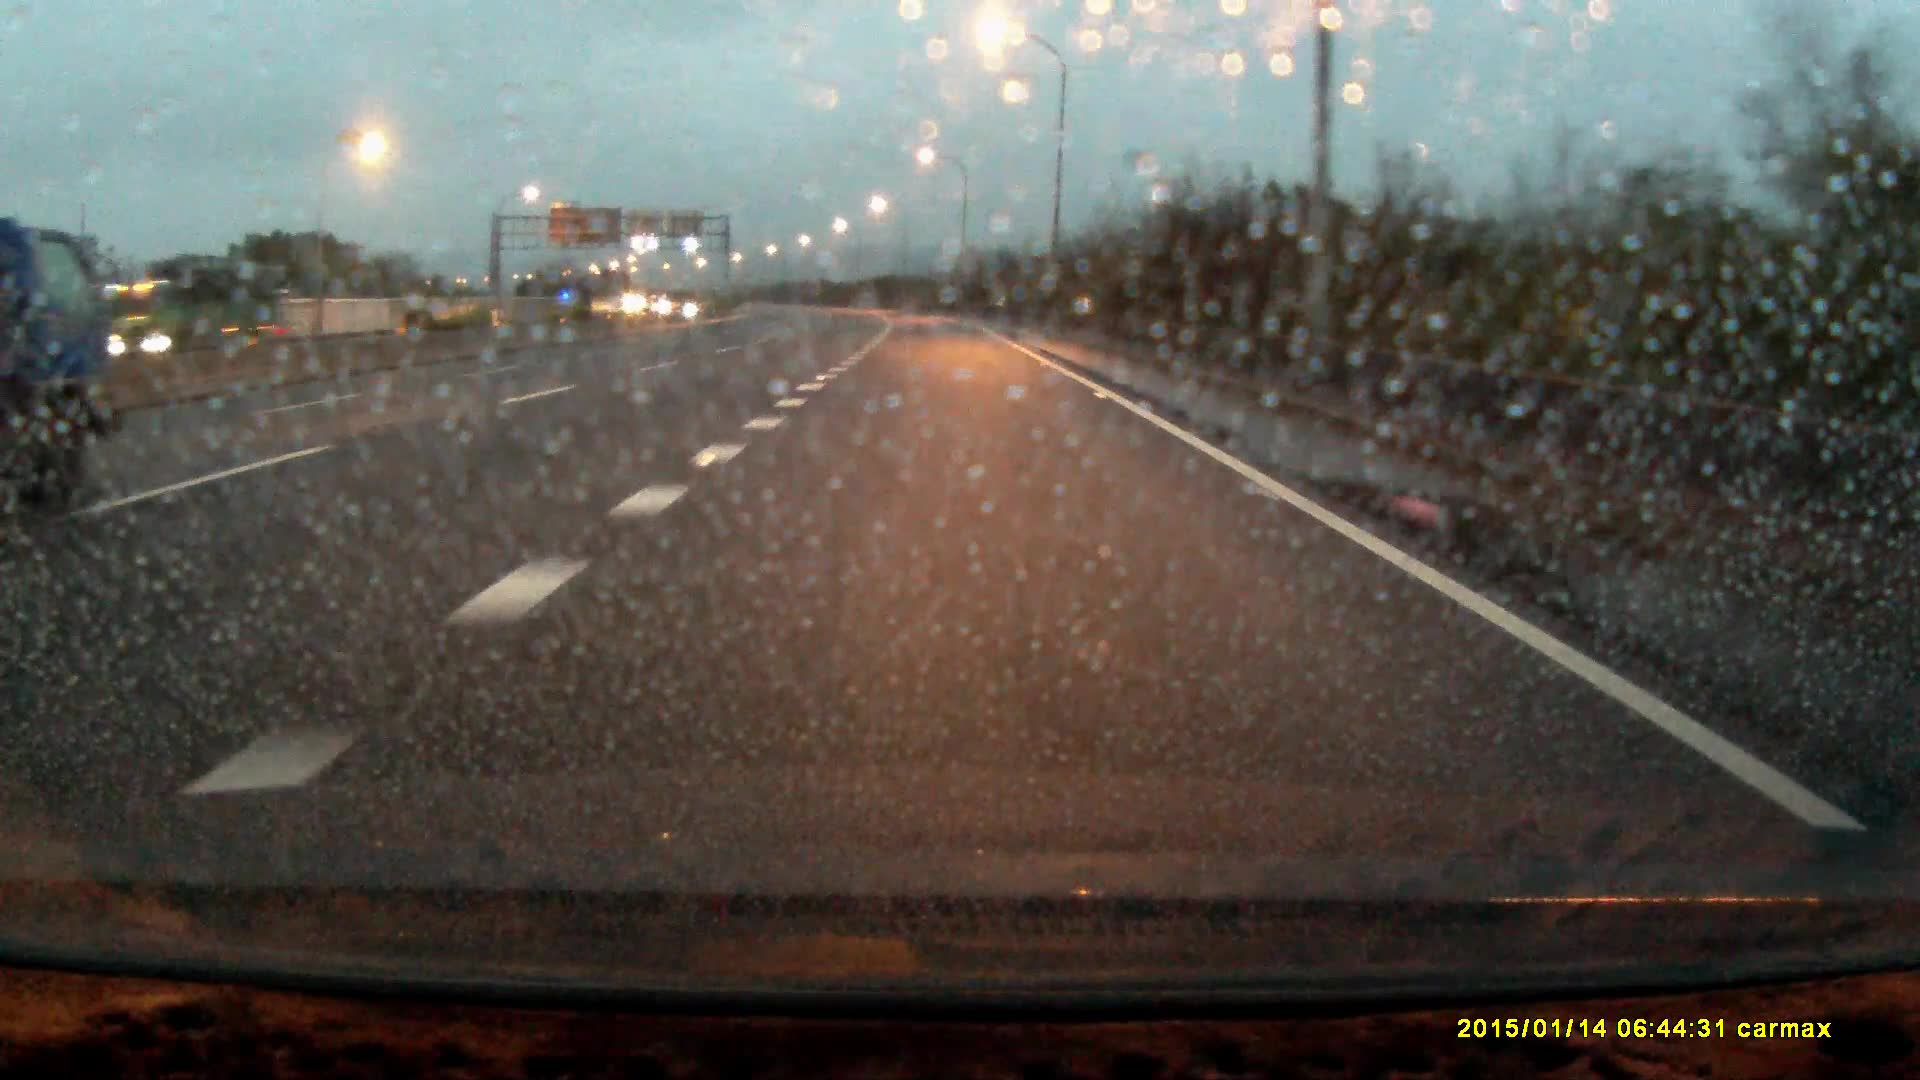vehicle: (146, 261, 284, 352)
